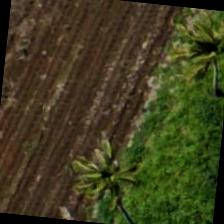Kelapa_Sawit: (119, 8, 218, 107), (64, 150, 162, 223)
